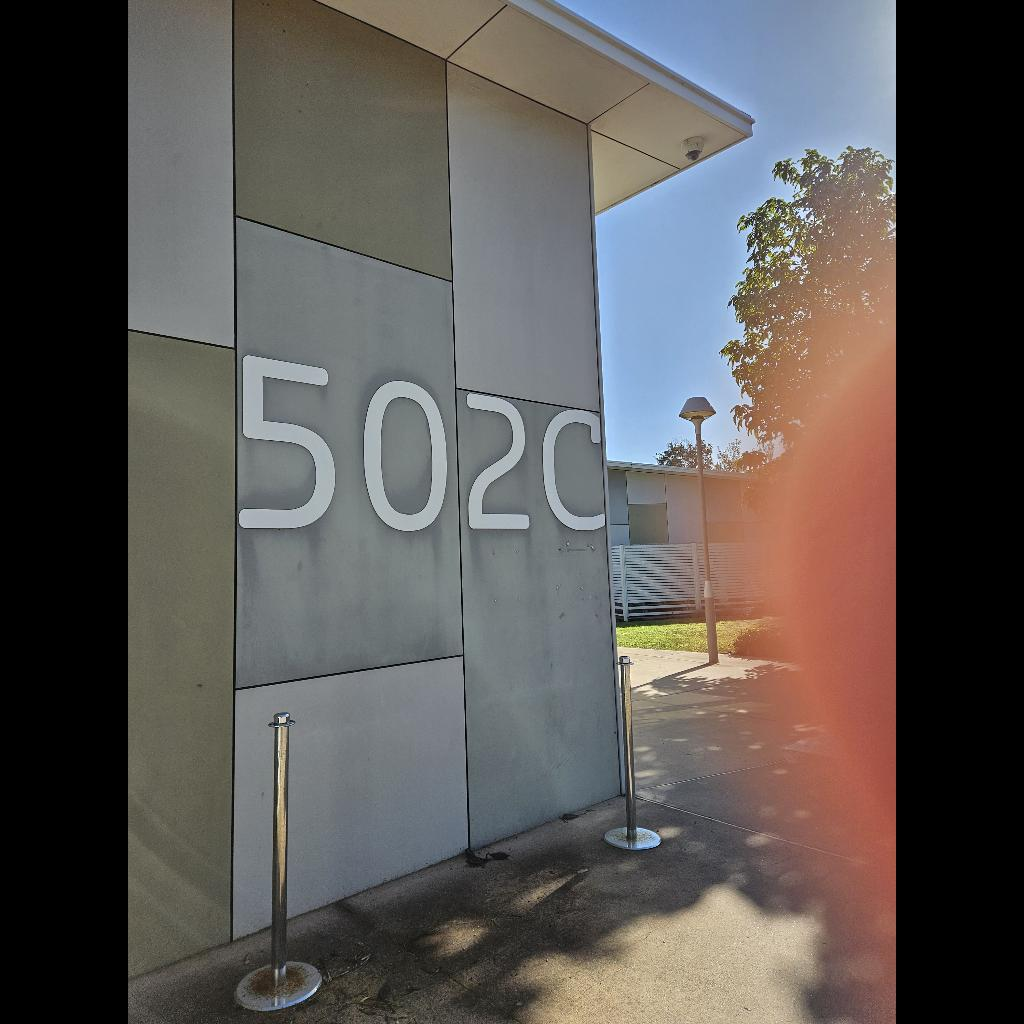BuildingCodes: (236, 352, 610, 532)
